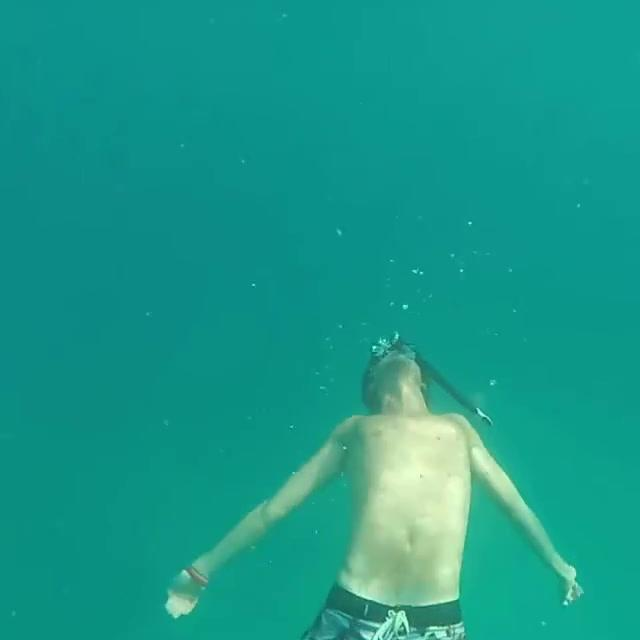human: (160, 328, 590, 640)
